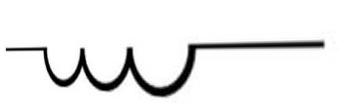inductor: (23, 39, 232, 98)
